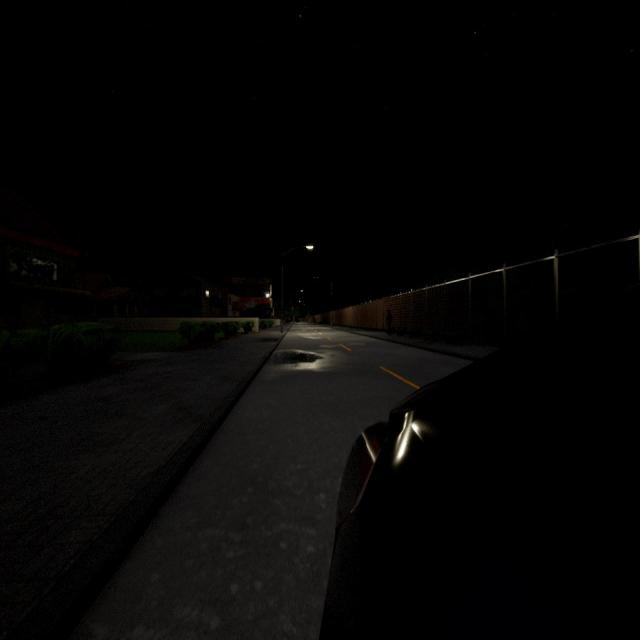Pedestrian: (384, 308, 395, 339)
Vehicle: (321, 294, 640, 640)
